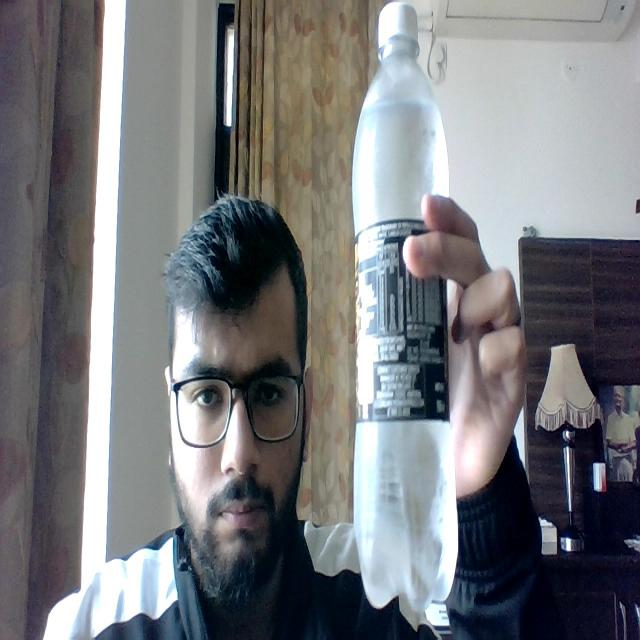full-bottle: (346, 0, 462, 618)
